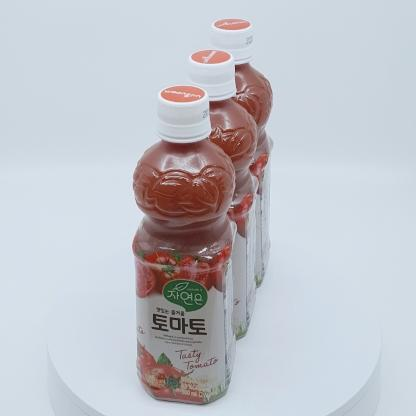--------500ML: (132, 84, 238, 405)
